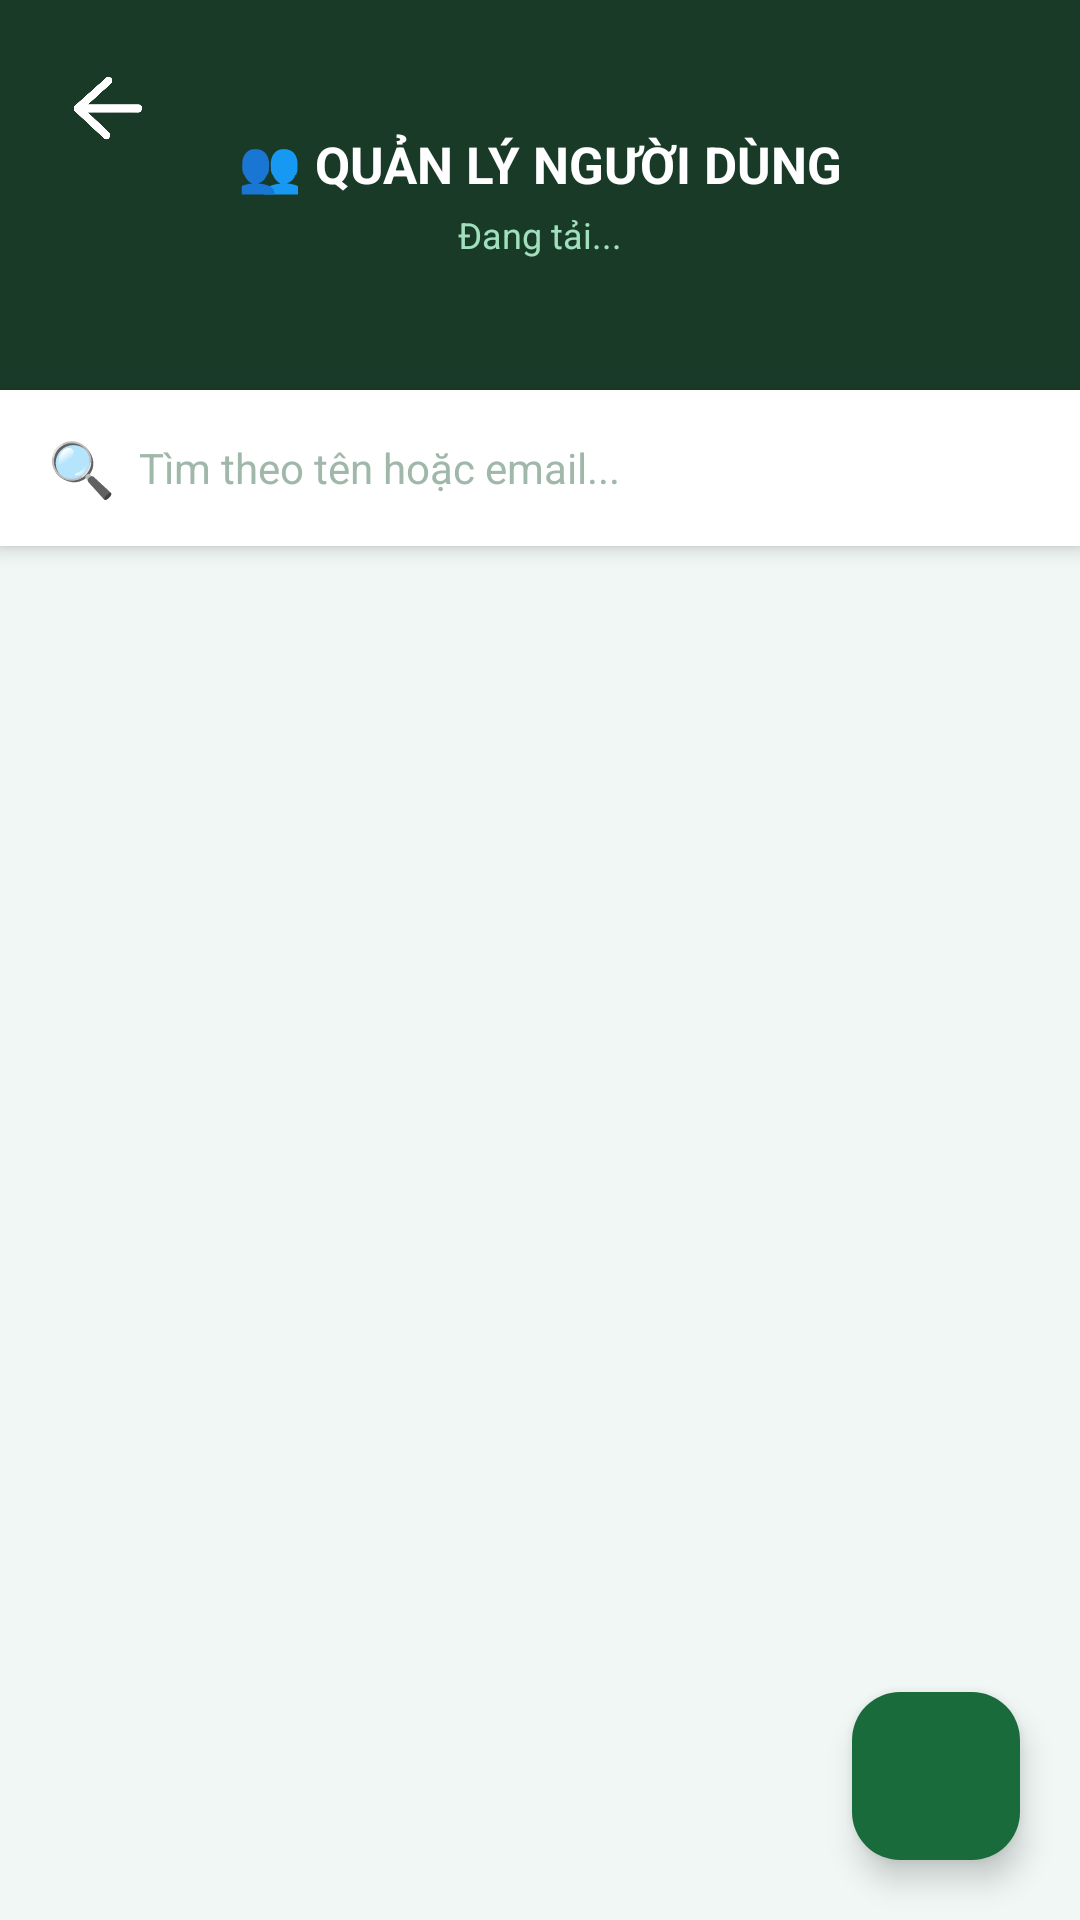

Point at icon controls on the screen. Image size 1080px x 1920px, points as point (x, y).
arrow back: point (108, 108)
